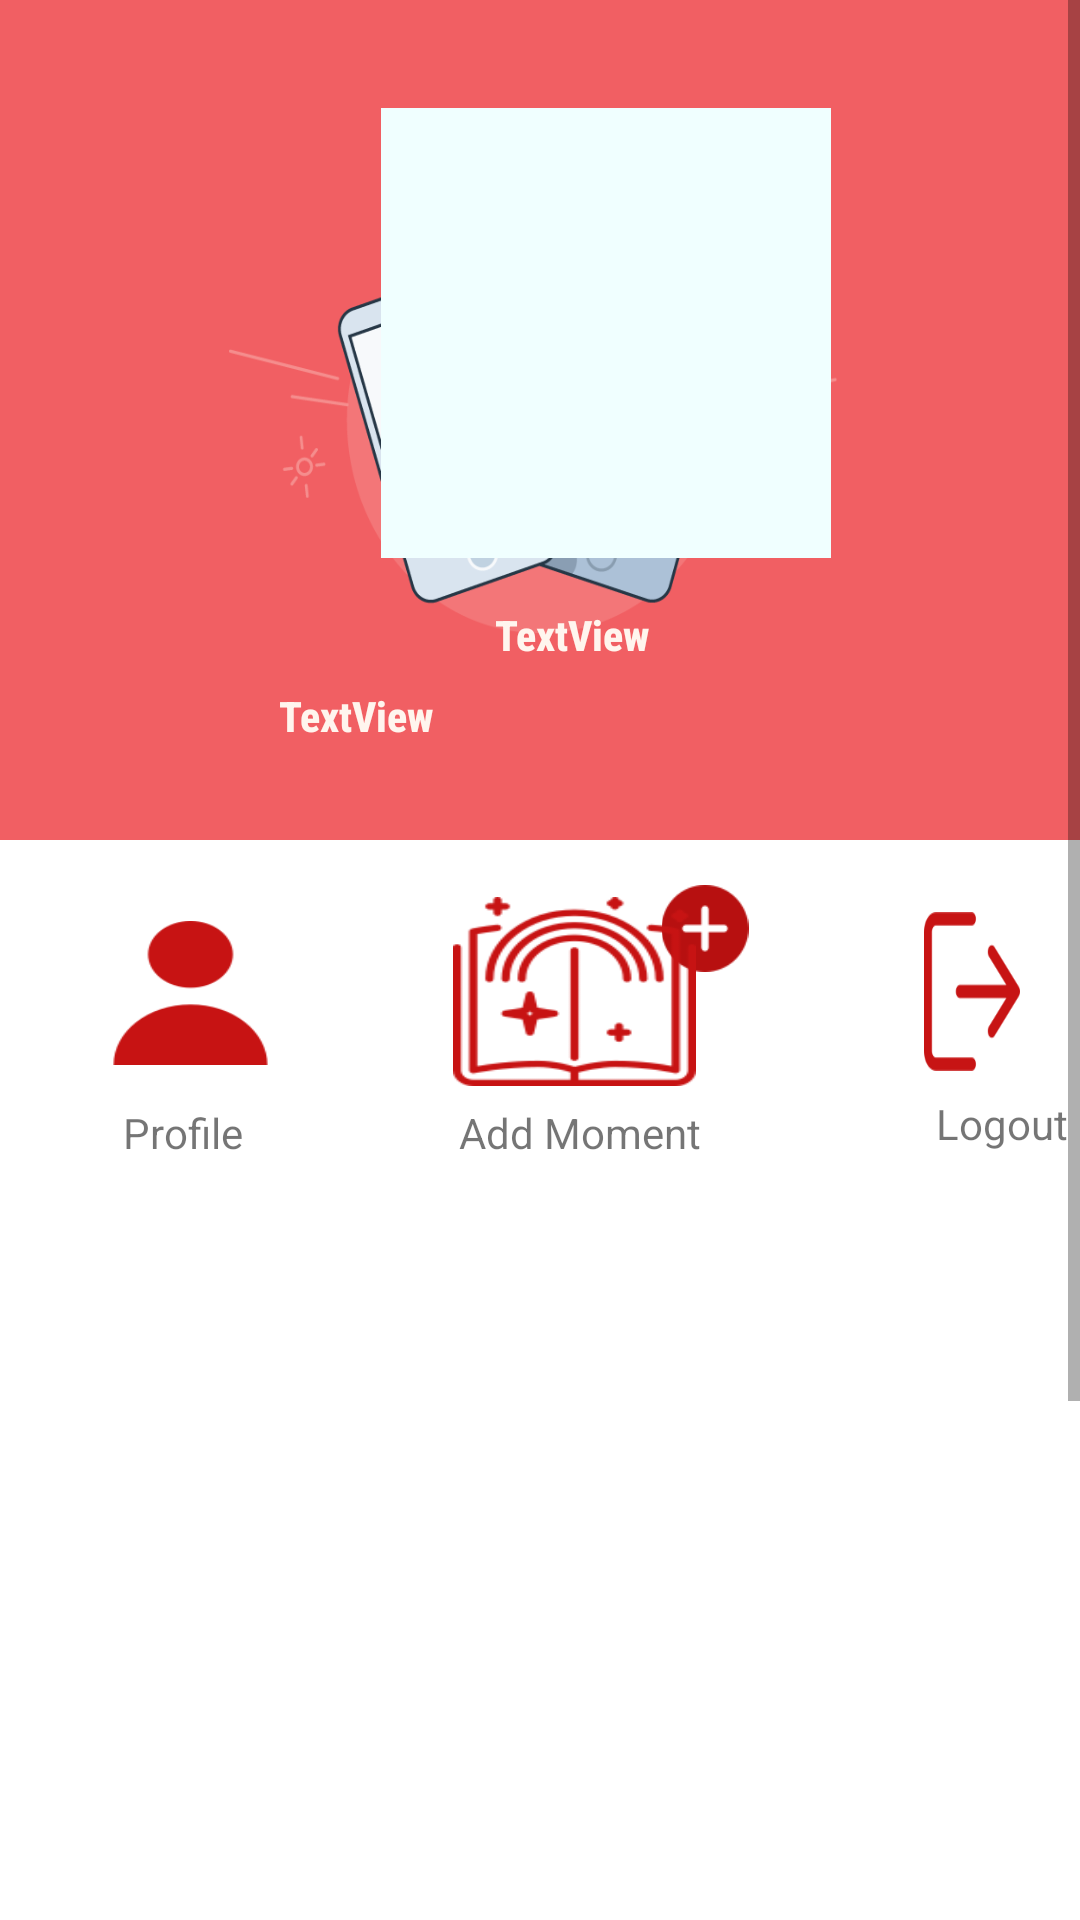

Icons on this 1080w x 1920h Android screen, each with the point to tap as (x,y):
plus: (704,928)
story: (574,991)
user: (190,993)
